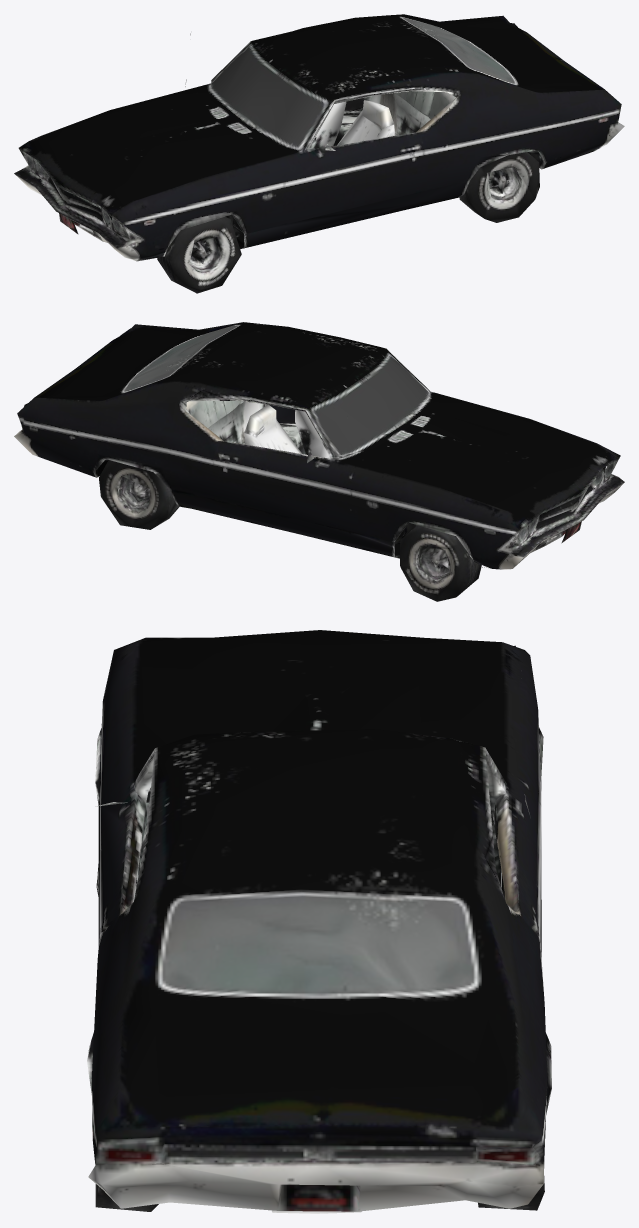
File: kw_chevelle.glb
3 renders of one model, top to bottom at view 1: azimuth 30°, elevation 25°; view 2: azimuth 150°, elevation 25°; view 3: azimuth 270°, elevation 25°, orthographic. The views are drawn at different scales.
Visible parts, largest first — view 1: frame; view 2: frame; view 3: frame.
Part boxes in pixels (<box>): frame: <box>14,14,624,293</box>; frame: <box>14,322,624,601</box>; frame: <box>87,630,551,1213</box>.
Bounding box in the file's own units: 5 × 1.53 × 1.96.
Materials: 1 (1 with a texture image).
